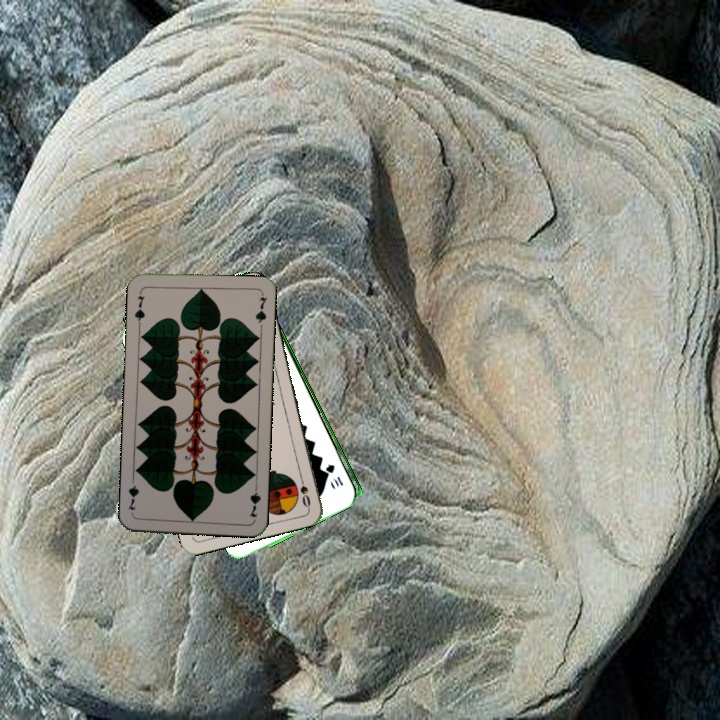G10: (323, 460, 346, 489)
G7: (245, 480, 264, 520), (131, 287, 147, 327)
SO: (295, 470, 313, 510)
